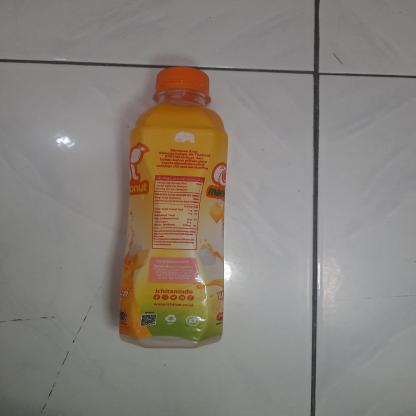plastic: (107, 64, 230, 352)
